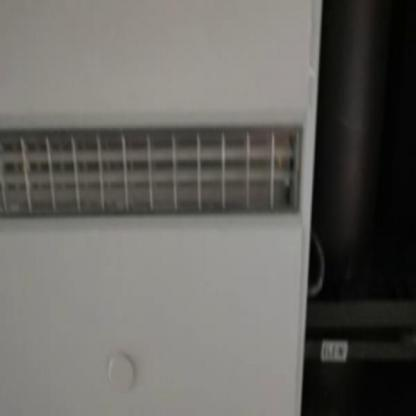light_off: (2, 80, 306, 250)
